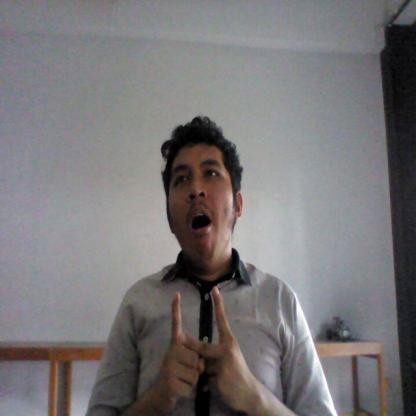H: (150, 283, 250, 416)
